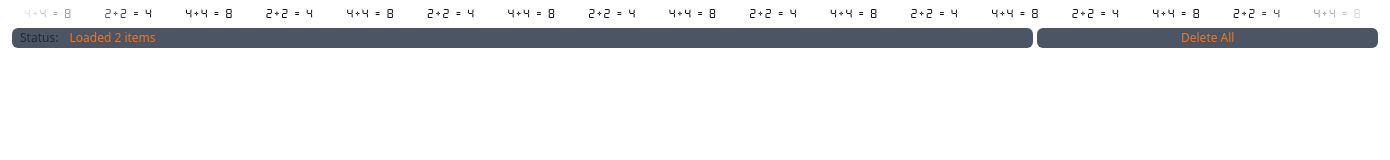
Test: TickerBar coverage › deletes all items successfully
Click the button "Delete All". click: point(1208, 38)
box: [1038,28,1378,48]
Wait 3000 ms
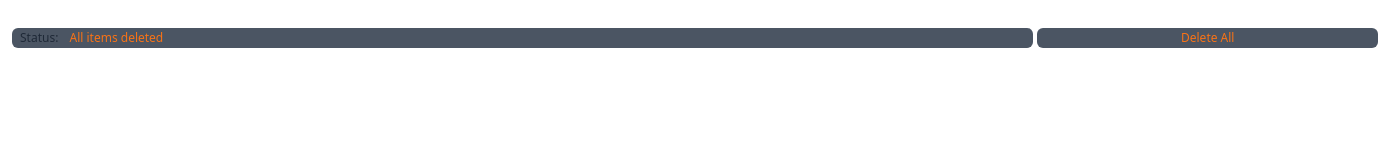
Check: the text "All items deleted" is shown, box [66,29,163,46]
Check: the text "=" is gone
